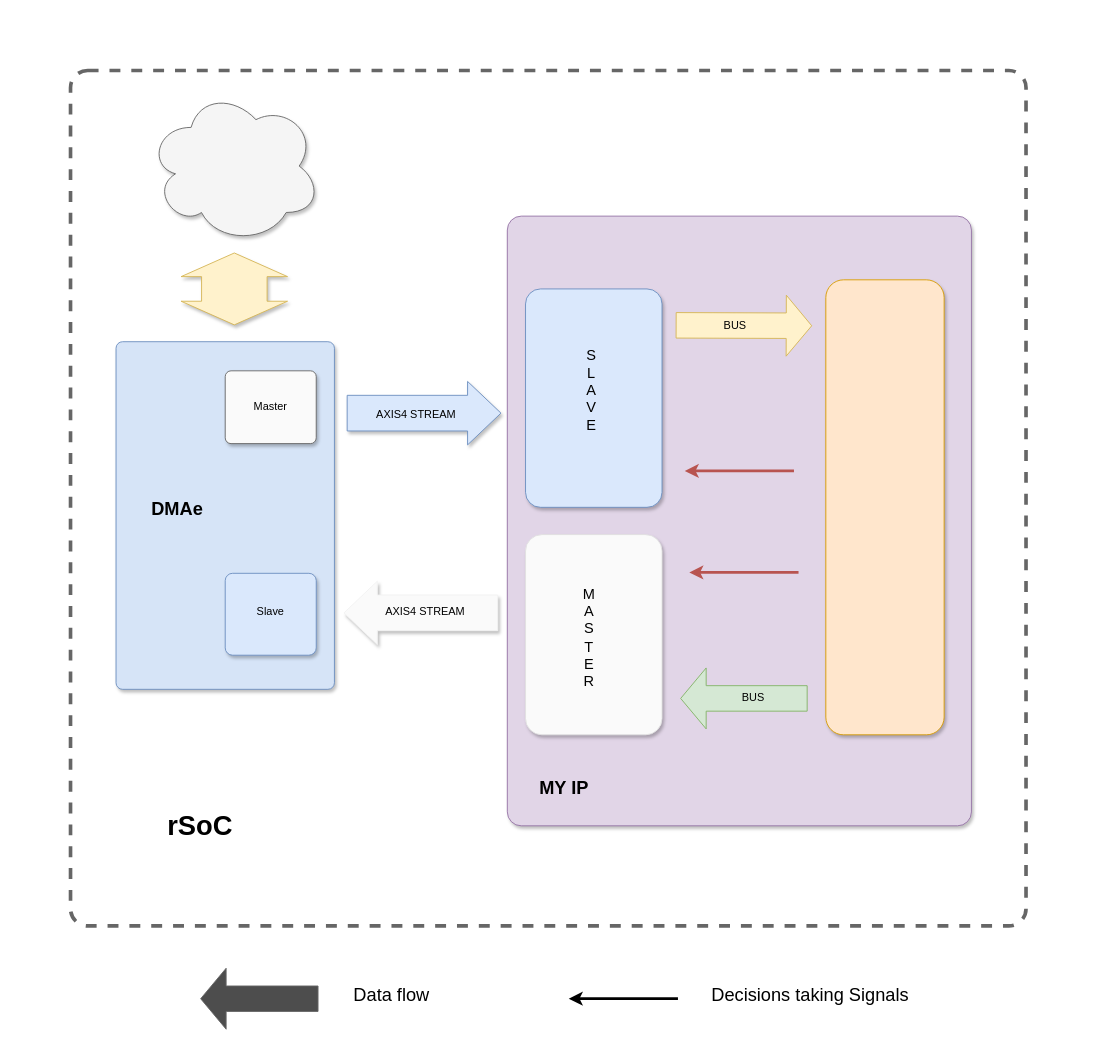
Some shapes in this 1098 by 1058 pixel diagram are drawn without their labels. The centre of each missing label's shape, as x and y in pixels:
F I F O: pixel 885 508
PS and Logic: pixel 234 167
